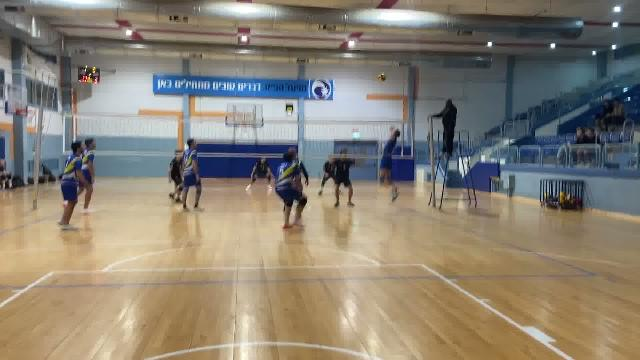ball: (378, 72, 388, 83)
